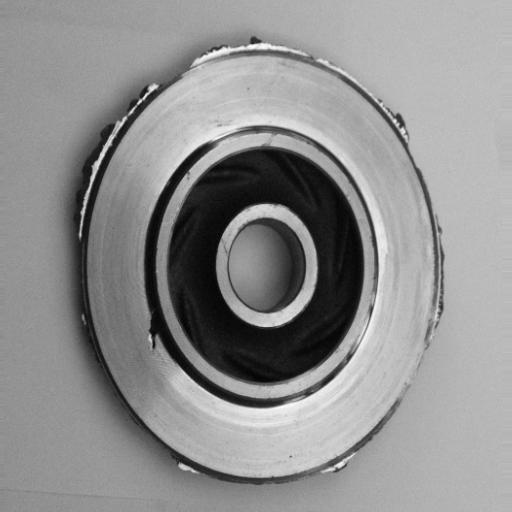casting_with_burr: (69, 31, 448, 485)
crack: (139, 305, 169, 363)
scratch: (197, 120, 273, 149)
